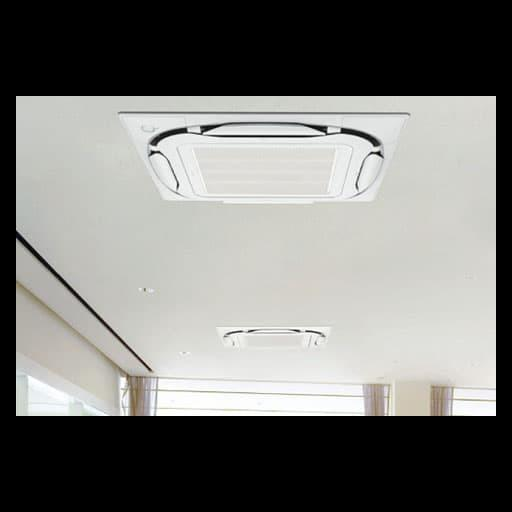4-way-ac: (117, 110, 411, 209), (217, 323, 333, 351)
